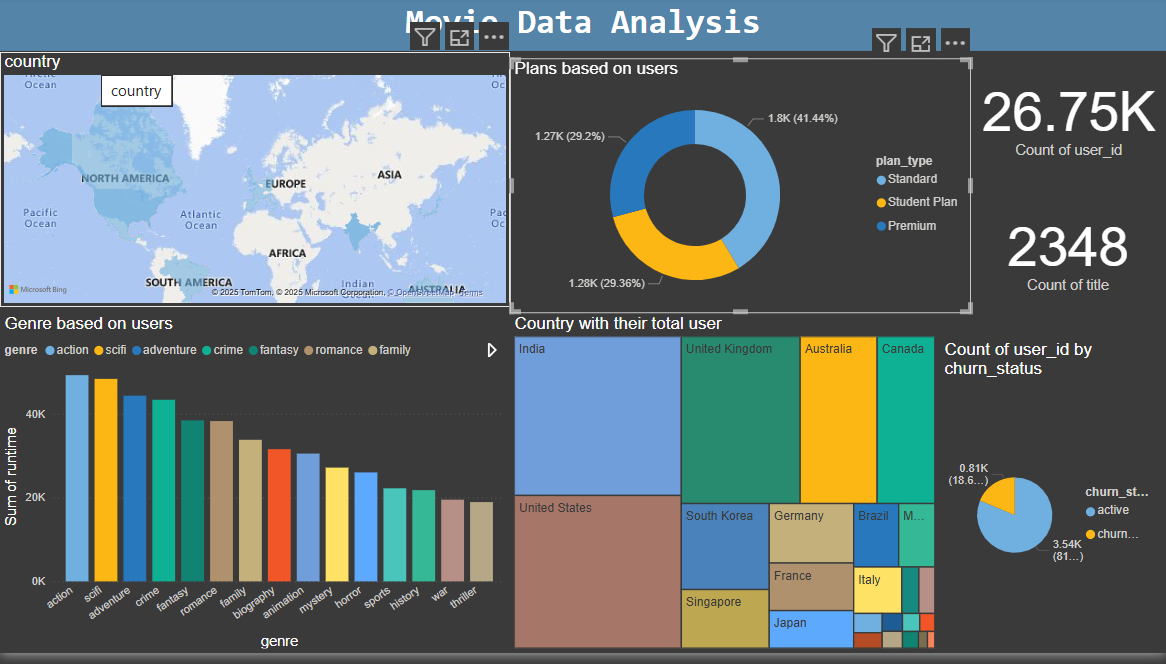

Layout of this report page (visuals, bound fields, positions):
{"tool":"powerbi","page":{"name":"Page 1","canvas":[1280,720],"ordinal":0},"visuals":[{"type":"textbox","box":[0,0,1279.7,59.3],"z":0},{"type":"treemap","title":"Country with their total user","fields":{"Details":["users1 csv.country"],"Values":["CountNonNull(watch_history1 csv.user_id)"]},"box":[560,347.1,471.4,372.9],"z":1000},{"type":"donutChart","title":"Plans based on users","fields":{"Category":["subscriptions1 csv.plan_type"],"Y":["CountNonNull(subscriptions1 csv.user_id)"]},"box":[560,67.1,505.7,280],"z":2000},{"type":"columnChart","title":"Genre based on users","fields":{"Category":["movies1 csv.genre"],"Y":["Sum(movies1 csv.runtime)"],"Series":["movies1 csv.genre"]},"box":[0,347.5,559.3,372.9],"z":3000},{"type":"card","fields":{"Values":["CountNonNull(ratings1 csv.user_id)"]},"box":[1065.7,60,214.3,140],"z":4000},{"type":"card","fields":{"Values":["Count(movies1 csv.title)"]},"box":[1065.7,210,212.9,137.1],"z":5000},{"type":"filledMap","fields":{"Category":["users1 csv.country"]},"box":[0,60,560,280],"z":6000},{"type":"pieChart","fields":{"Y":["CountNonNull(subscriptions1 csv.user_id)"],"Series":["subscriptions1 csv.churn_status"]},"box":[1031.4,375.7,241.4,344.3],"z":7000}]}

Visuals, with their boxes in screenshot pixels (x1, y1, x2, y2), scaled from the page's 1280x720 canvas onto the 1166x664 screenshot:
textbox: 0 0 1165 55
"Country with their total user" treemap: 510 320 940 663
"Plans based on users" donutChart: 510 62 971 320
"Genre based on users" columnChart: 0 320 509 663
card - CountNonNull(ratings1 csv.user_id): 971 55 1165 184
card - Count(movies1 csv.title): 971 194 1165 320
filledMap - users1 csv.country: 0 55 510 314
pieChart - CountNonNull(subscriptions1 csv.user_id) x subscriptions1 csv.churn_status: 940 346 1159 663
